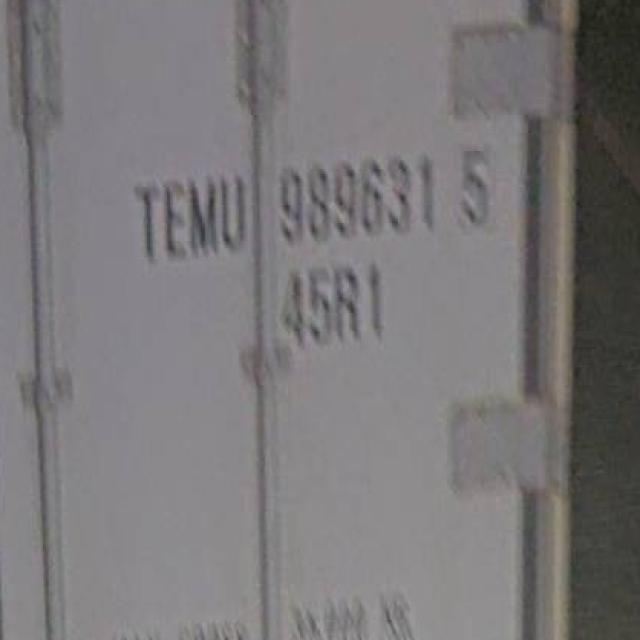dv: (456, 141, 496, 230)
owner: (127, 157, 248, 266)
serial: (268, 144, 446, 247)
size: (269, 253, 401, 345)
